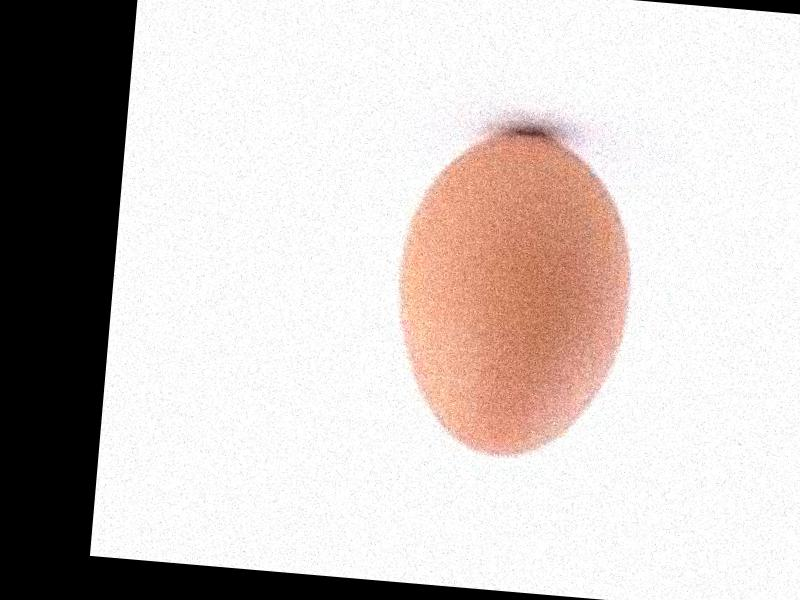Eggs: (385, 125, 645, 465)
